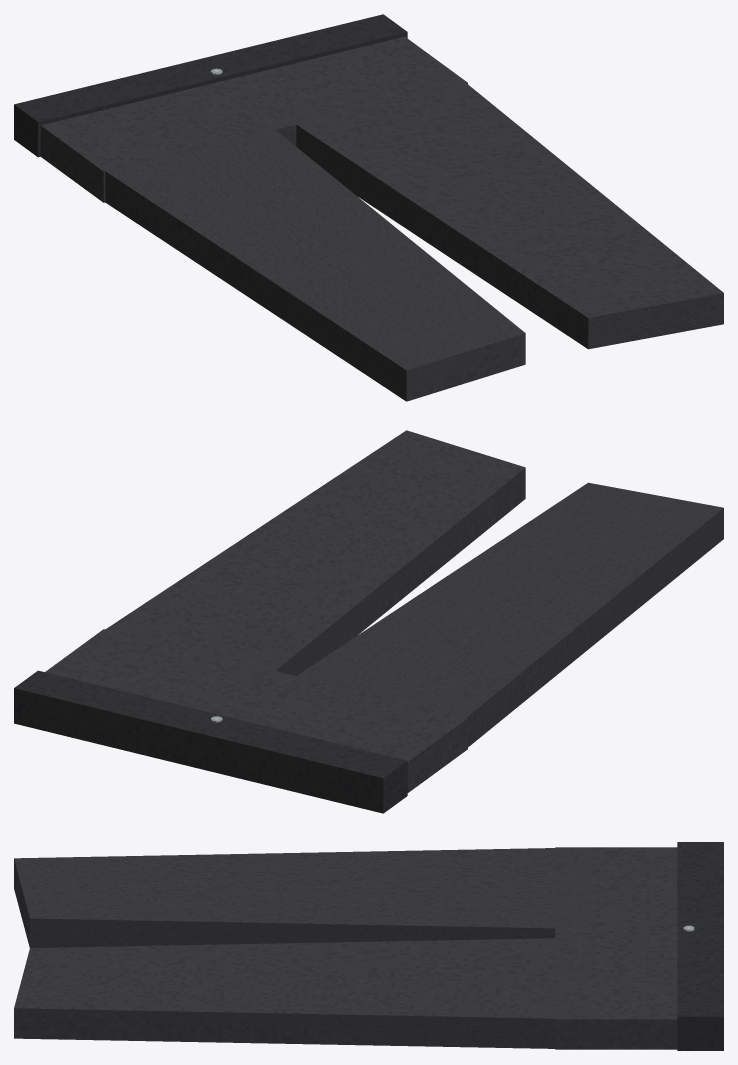
File: pants_leather.glb
3 renders of one model, top to bottom at view 1: azimuth 30°, elevation 25°; view 2: azimuth 150°, elevation 25°; view 3: azimuth 270°, elevation 25°, orthographic. The views are drawn at different scales.
Parts seen in each view (by area): view 1: block_leg 1, block_leg -1, block_seat, block_waistband; view 2: block_leg -1, block_leg 1, block_seat, block_waistband; view 3: block_leg 1, block_leg -1, block_seat, block_waistband.
Boxes of the visible parts, x1,y1,x2,y2 form: block_leg 1: (278, 68, 723, 349); block_leg -1: (86, 118, 525, 401); block_seat: (40, 36, 467, 202); block_waistband: (14, 14, 407, 157); block_leg -1: (278, 482, 723, 747); block_leg 1: (105, 430, 525, 683); block_seat: (45, 629, 467, 792); block_waistband: (14, 670, 407, 813); block_leg 1: (14, 937, 593, 1048); block_leg -1: (14, 847, 594, 947); block_seat: (555, 847, 677, 1049); block_waistband: (677, 842, 723, 1050).
Size of the model in its own units: 0.284 by 0.027 by 0.488.
1 material, 1 textured.
